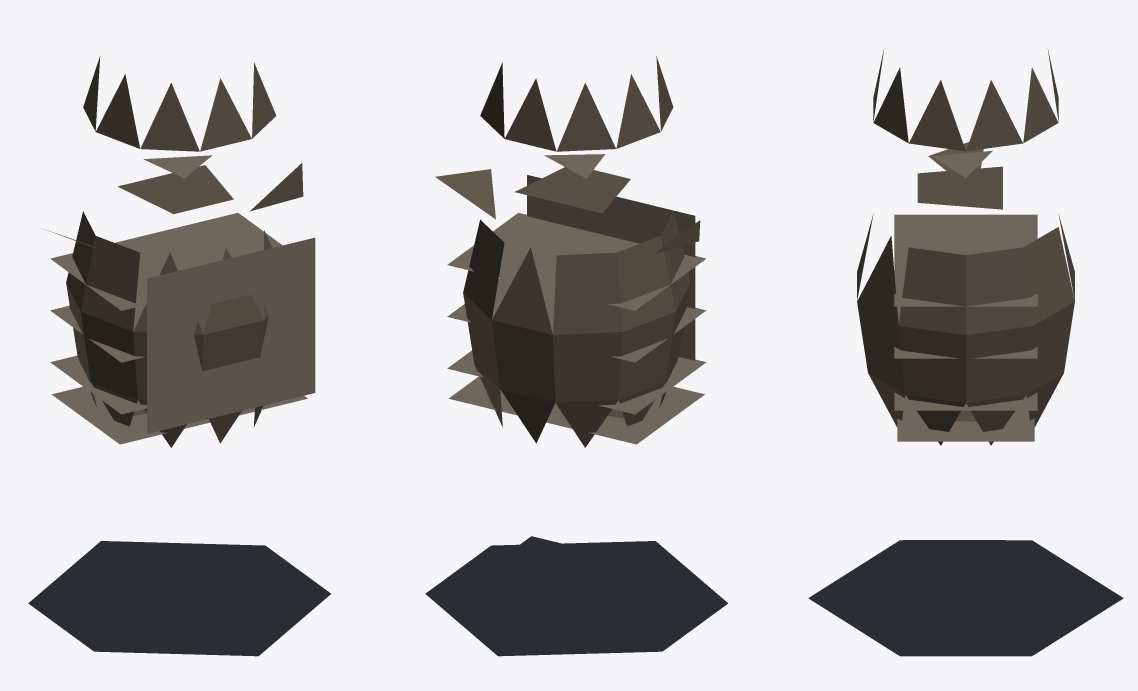
The model's file is weave-armor.lod.glb.
The picture shows the model from 3 angles, left to right: view 1: azimuth 30°, elevation 25°; view 2: azimuth 150°, elevation 25°; view 3: azimuth 270°, elevation 25°; orthographic projection.
Parts seen in each view (by area): view 1: m; view 2: m; view 3: m.
Part boxes in pixels (left/top/right/bottom): m: left=28, top=56, right=330, bottom=656; m: left=425, top=56, right=727, bottom=656; m: left=808, top=48, right=1123, bottom=656.
Size of the model in its own units: 0.3472 by 0.5144 by 0.2572.
